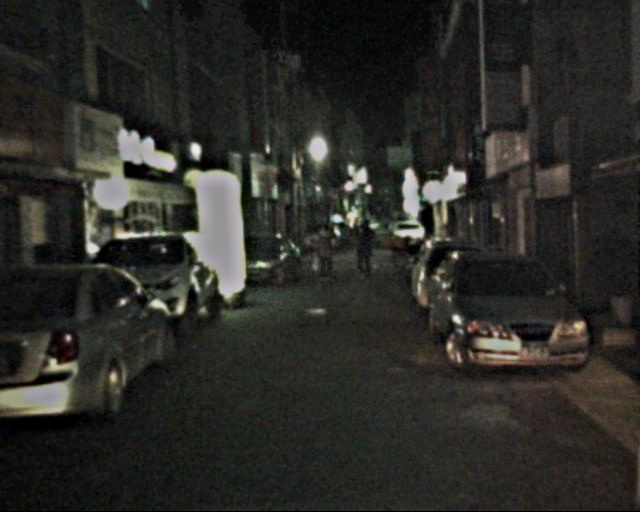person: (311, 222, 338, 289), (348, 221, 375, 287)
